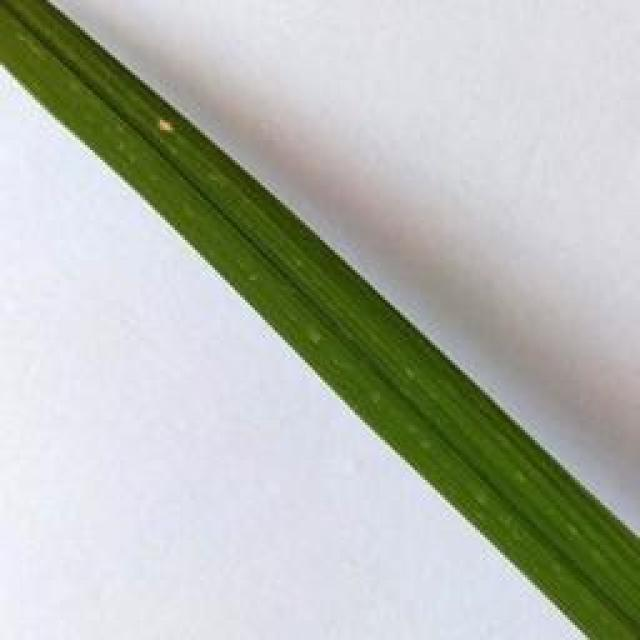Unhealthy: (157, 116, 173, 133)
